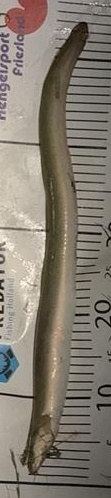Anguilla anguilla: (20, 20, 91, 478)
